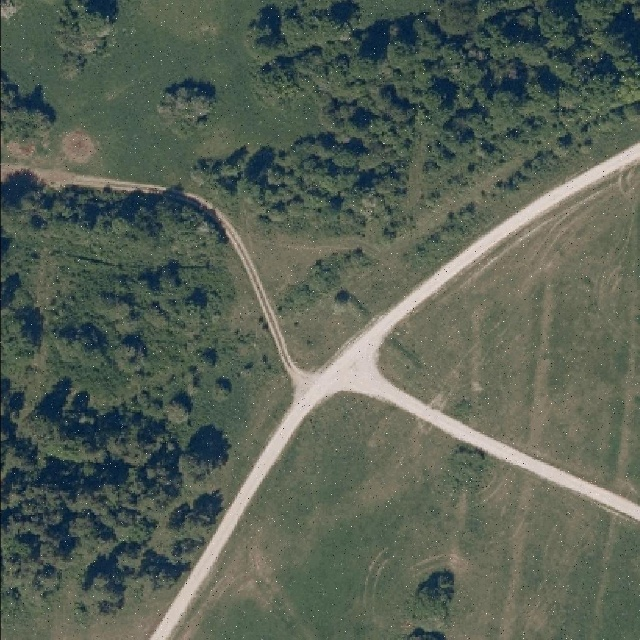vegetation: (192, 0, 640, 240), (0, 190, 229, 616), (57, 0, 115, 74), (402, 571, 452, 640), (0, 84, 49, 152), (157, 82, 219, 135), (447, 449, 486, 484)
